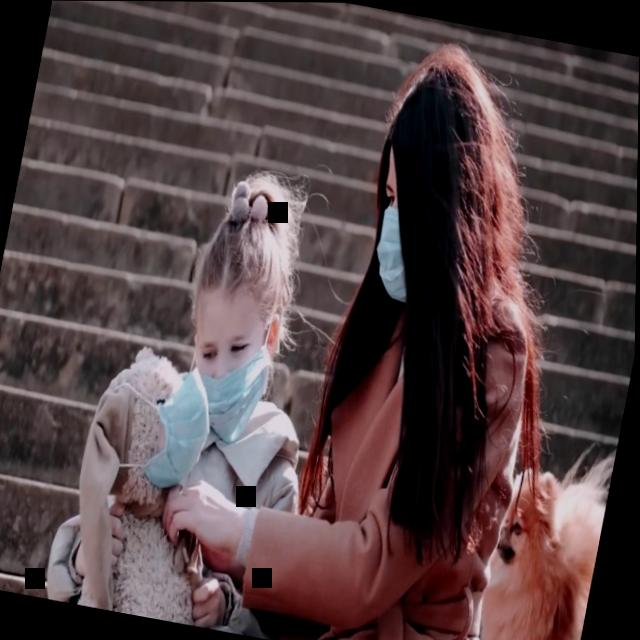Mask: (179, 299, 279, 445), (363, 159, 434, 303)
